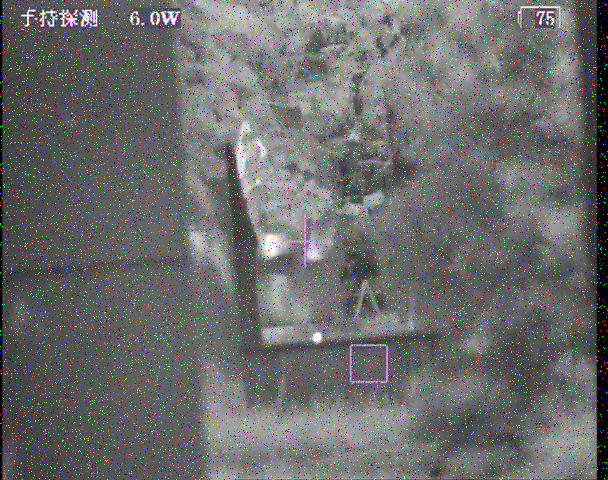my: (311, 330, 323, 344)
